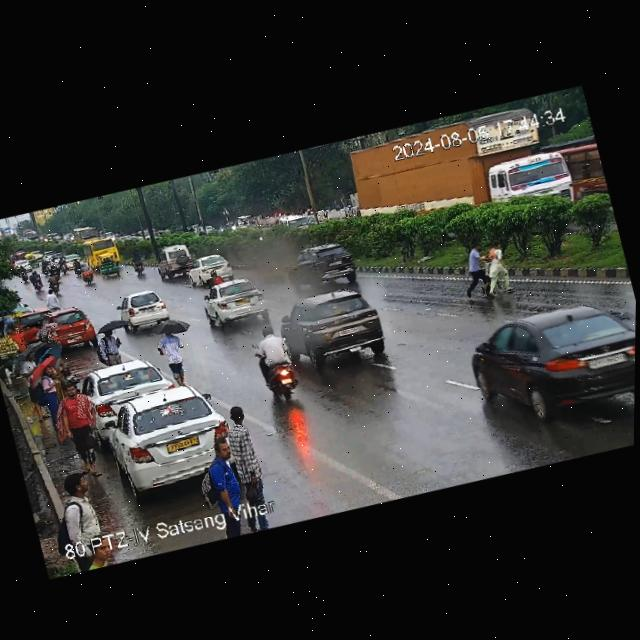bus: (79, 230, 128, 275)
car: (461, 281, 636, 437), (96, 370, 242, 499), (278, 273, 401, 377), (83, 348, 178, 411), (17, 298, 98, 360), (201, 272, 277, 338), (283, 235, 364, 296), (112, 282, 173, 331), (181, 247, 235, 288), (155, 241, 199, 282), (161, 242, 195, 266), (94, 252, 121, 279)
motorcycle: (249, 319, 304, 408), (37, 241, 81, 279), (28, 244, 67, 281), (76, 260, 100, 285), (129, 248, 146, 276), (28, 269, 45, 290), (48, 272, 60, 293), (16, 264, 29, 283)
person: (222, 397, 283, 528), (54, 472, 108, 572), (55, 381, 104, 482), (198, 433, 247, 531), (454, 237, 513, 302), (151, 317, 197, 387), (18, 351, 50, 424), (38, 364, 68, 430), (95, 327, 124, 366), (6, 322, 26, 346), (43, 286, 59, 309)
truck: (340, 86, 578, 245)
